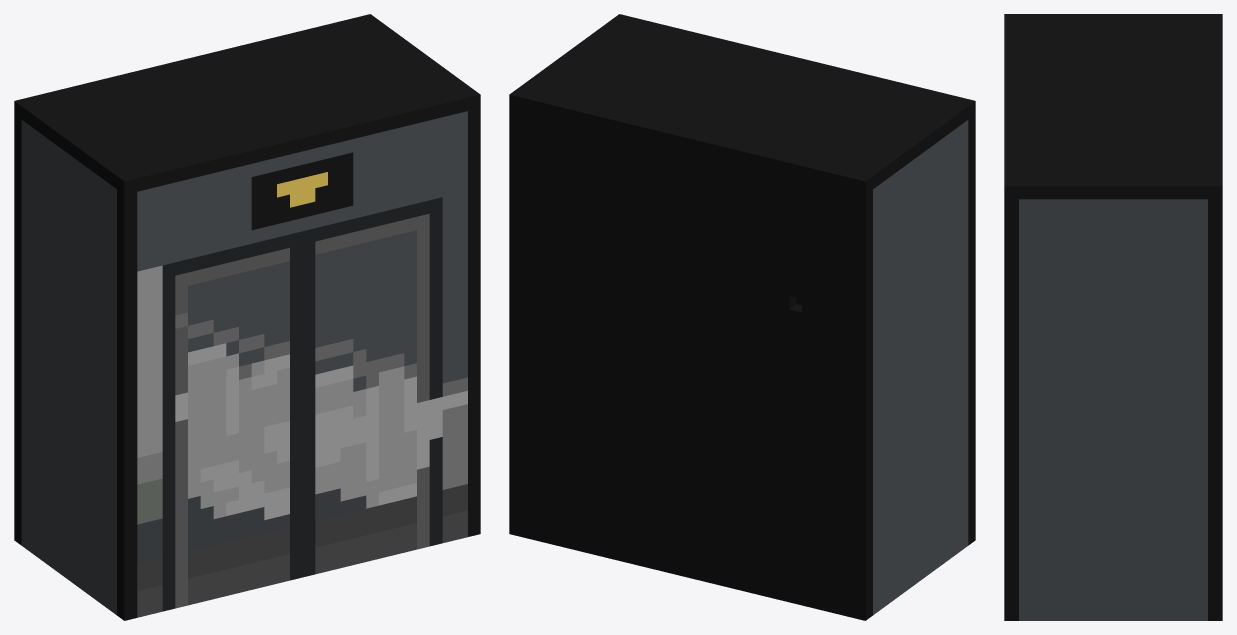
The model's file is Ascenseur(frame1).obj.
3 views of the same model, side by side, from view 1: azimuth 30°, elevation 25°; view 2: azimuth 150°, elevation 25°; view 3: azimuth 270°, elevation 25° (orthographic).
Bounding box in the file's own units: 2.8 × 3.3 × 1.5.
Materials: 1 (1 with a texture image).
